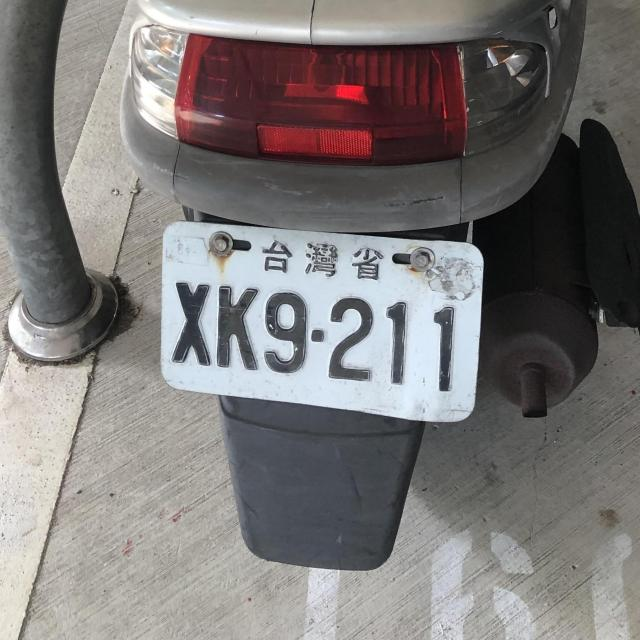W: (154, 218, 484, 418)
